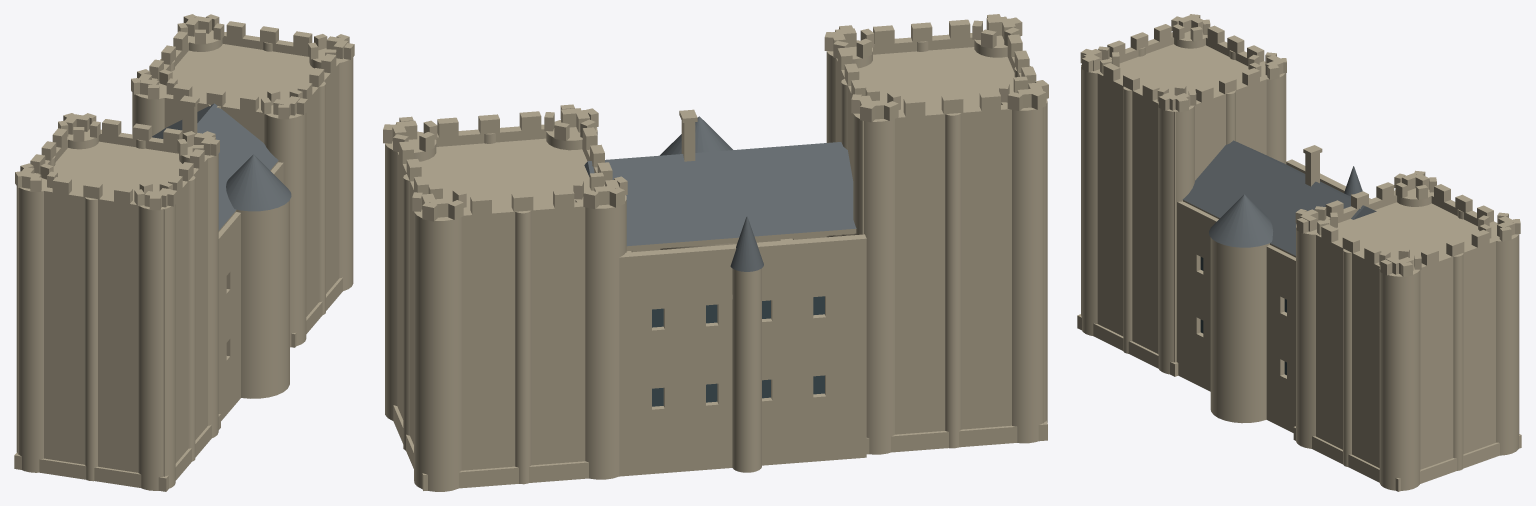
Rendered from donjon-de-niort-near.glb.
3 views of the same model, side by side, from view 1: azimuth 30°, elevation 25°; view 2: azimuth 150°, elevation 25°; view 3: azimuth 270°, elevation 25° (orthographic). The views are drawn at different scales.
Visible parts, largest first — view 1: donjon-de-niort-0-plaster, donjon-de-niort-0-roof; view 2: donjon-de-niort-0-plaster, donjon-de-niort-0-roof, donjon-de-niort-0-glass; view 3: donjon-de-niort-0-plaster, donjon-de-niort-0-roof.
Part boxes in pixels (x1=…): donjon-de-niort-0-plaster: x1=14, y1=14, x2=354, y2=491; donjon-de-niort-0-roof: x1=152, y1=103, x2=291, y2=230; donjon-de-niort-0-plaster: x1=383, y1=14, x2=1048, y2=491; donjon-de-niort-0-roof: x1=584, y1=116, x2=856, y2=271; donjon-de-niort-0-glass: x1=652, y1=296, x2=824, y2=406; donjon-de-niort-0-plaster: x1=1077, y1=14, x2=1521, y2=491; donjon-de-niort-0-roof: x1=1182, y1=140, x2=1376, y2=255.
Bounding box in the file's own units: 44.94 × 28 × 41.17.
